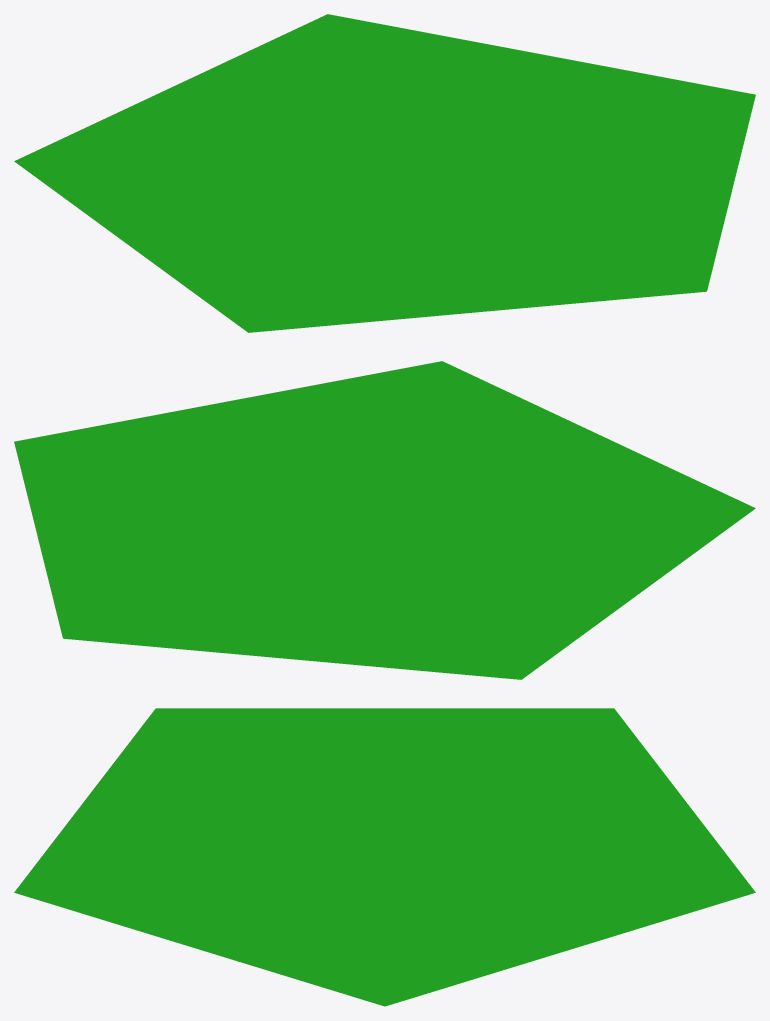
Rendered from simple_001_PolyList_00.dae.
3 views of the same model, one above another, from view 1: azimuth 30°, elevation 25°; view 2: azimuth 150°, elevation 25°; view 3: azimuth 270°, elevation 25° (orthographic). The views are drawn at different scales.
Visible parts, largest first — view 1: NGon01; view 2: NGon01; view 3: NGon01.
Part boxes in pixels (<box>): NGon01: <box>14,14,755,332</box>; NGon01: <box>14,361,755,679</box>; NGon01: <box>14,708,755,1006</box>.
Size of the model in its own units: 1739 by 1828 by 0.
